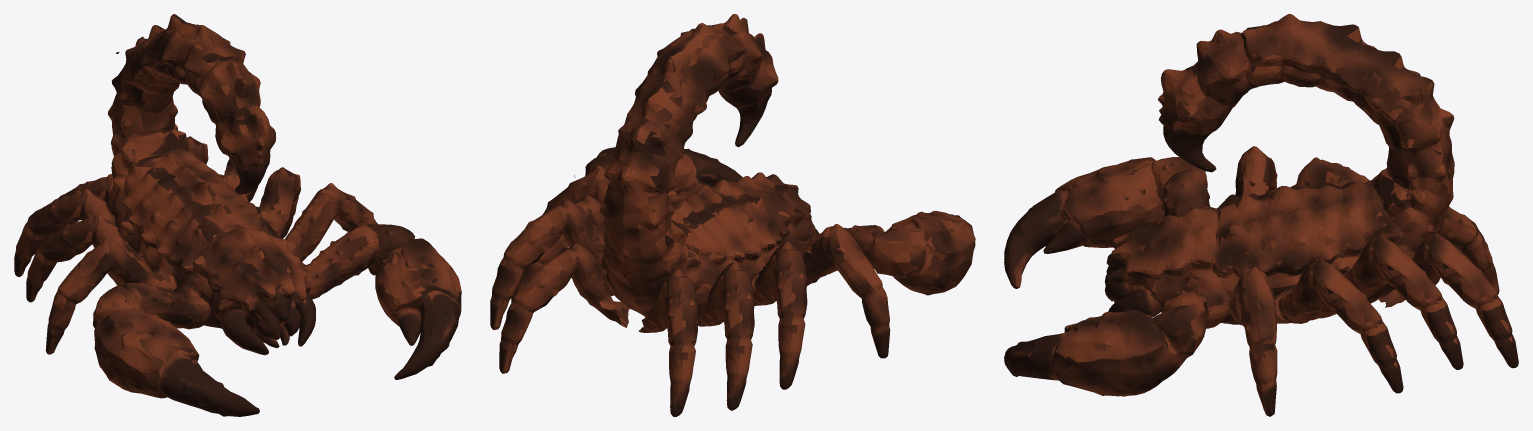
Rendered from escorpiao.glb.
3 views of the same model, side by side, from view 1: azimuth 30°, elevation 25°; view 2: azimuth 150°, elevation 25°; view 3: azimuth 270°, elevation 25° (orthographic). The views are drawn at different scales.
Parts seen in each view (by area): view 1: tmp4utfgyb2.ply; view 2: tmp4utfgyb2.ply; view 3: tmp4utfgyb2.ply.
Part boxes in pixels (x1,y1,x2,y2): tmp4utfgyb2.ply: [14, 14, 461, 416]; tmp4utfgyb2.ply: [490, 14, 975, 416]; tmp4utfgyb2.ply: [1004, 14, 1518, 416].
Size of the model in its own units: 1.93 by 1.53 by 2.24.
Materials: 1 (1 with a texture image).
